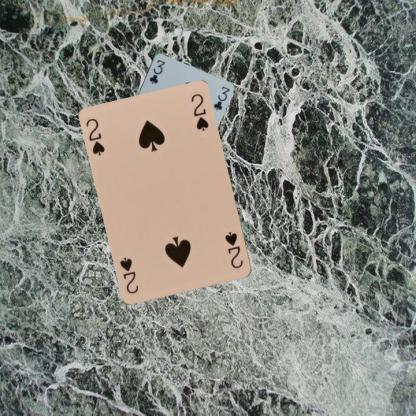2s: (222, 229, 244, 270), (84, 116, 106, 157)
3c: (147, 57, 166, 85)
